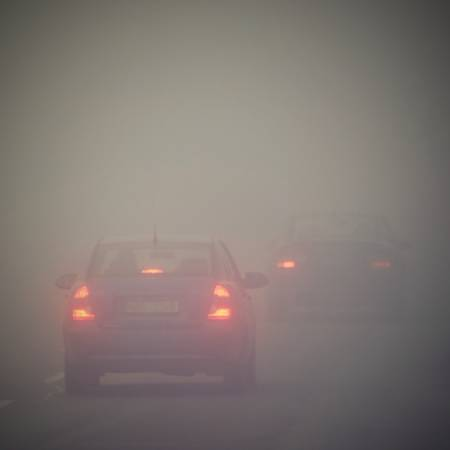car: (63, 242, 260, 388), (273, 205, 407, 323)
